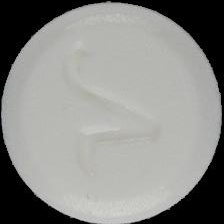10544-274: (0, 0, 224, 224)
